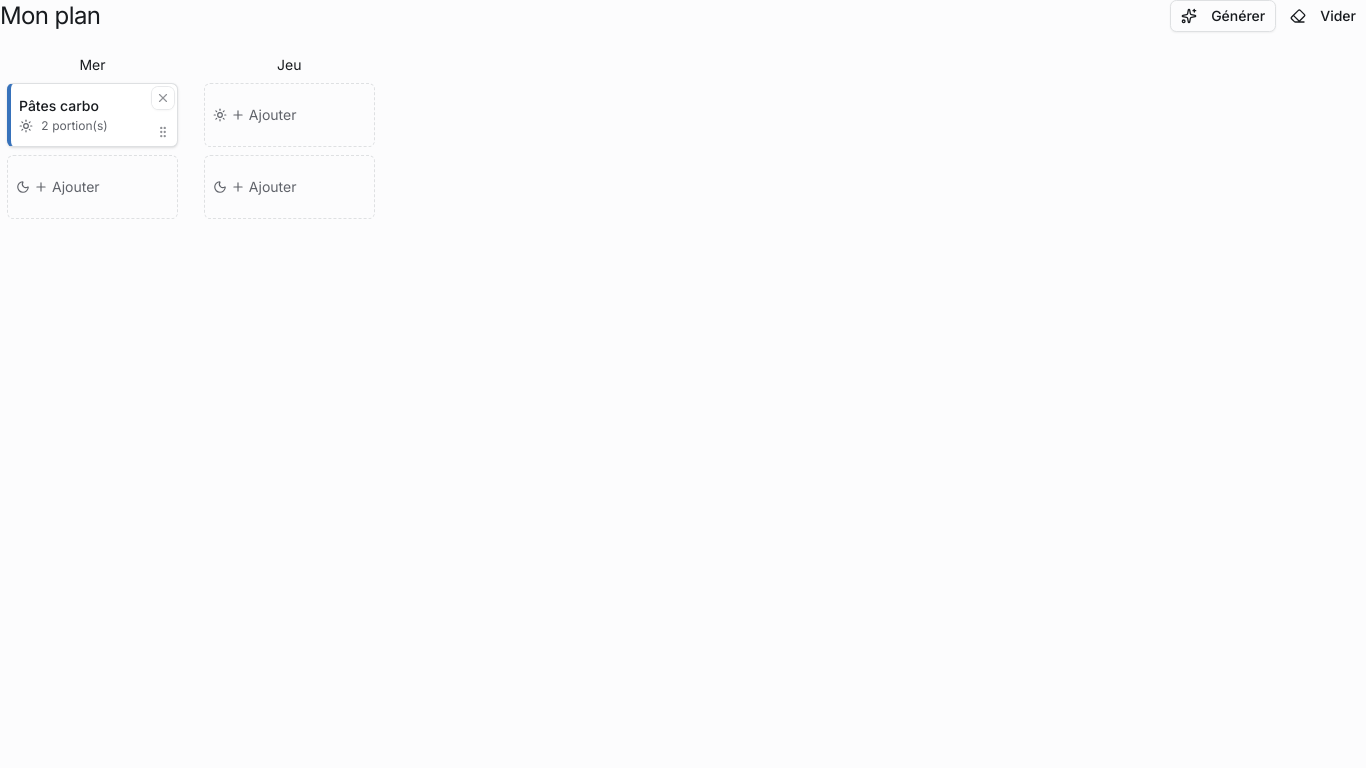
PlanGrid — aussi pour le créneau suivant › ouvre toujours la modale d'une carte remplie sur un clic court
Click the text "Pâtes carbo". click: (59,106)
box: [19,97,99,114]
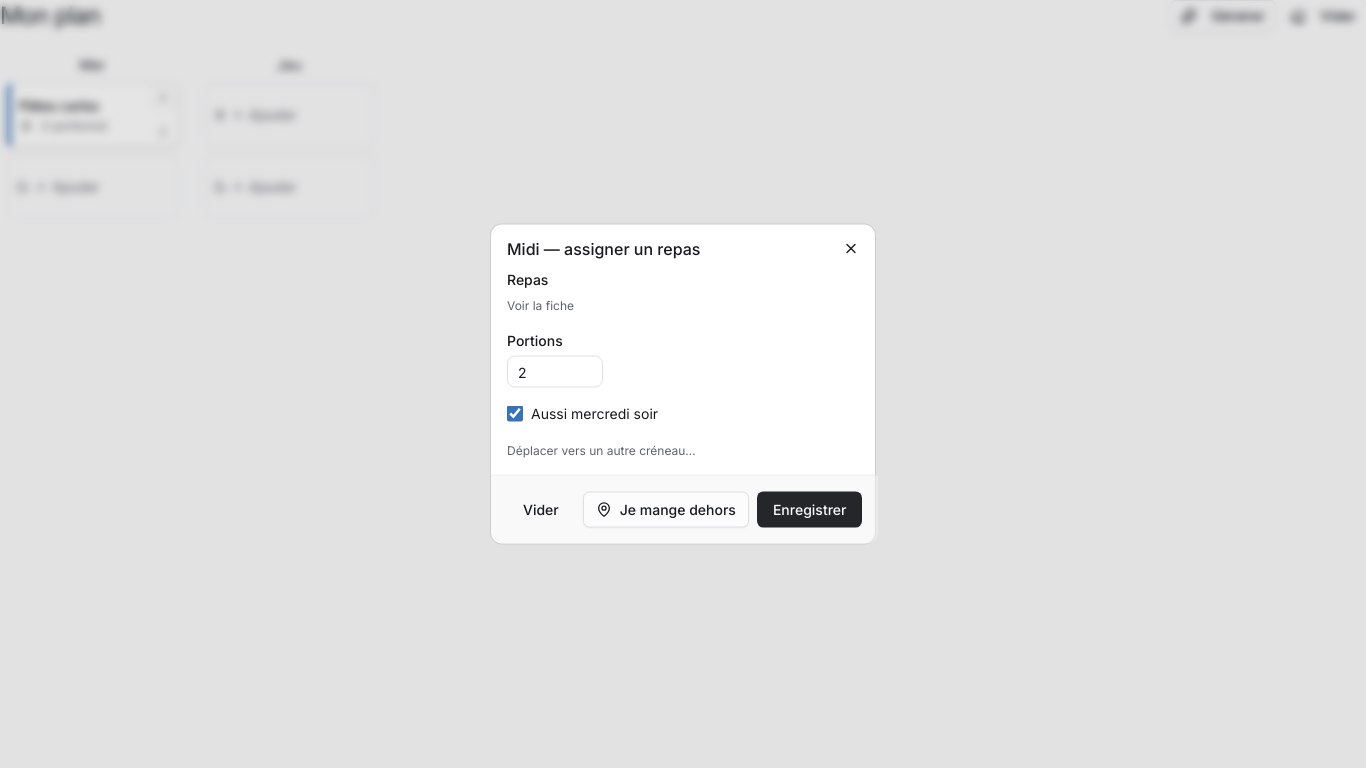
expect the dialog is shown: met, box [491,224,875,544]
